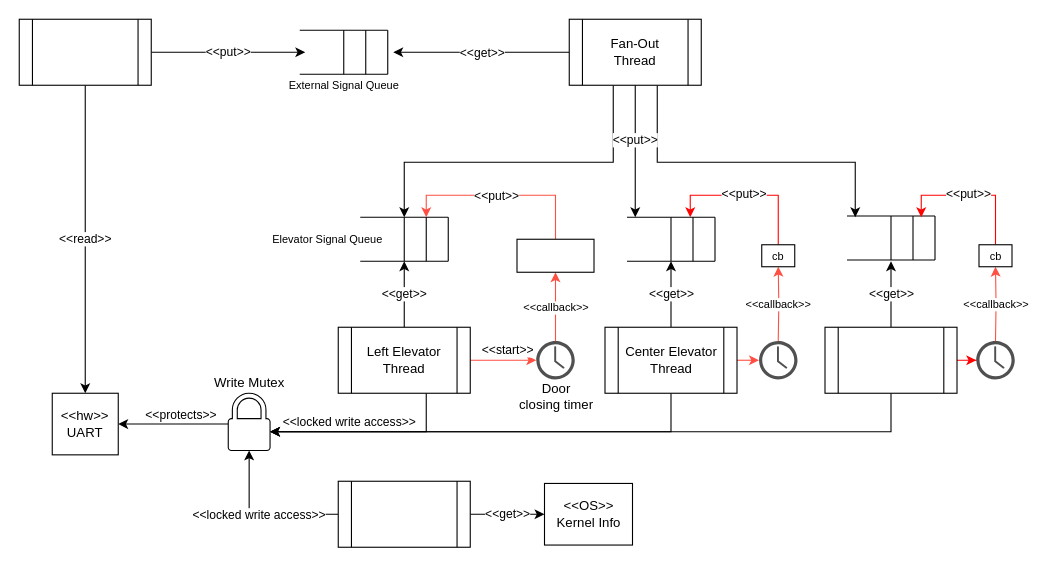
Image size: 1048x567. Some labels were removed from this diagram. Each missing label, with the centre of its shape:
<<function>> callback: point 555,255
Main Thread: point 403,513
Right Elevator Thread: point 890,359
Signal Handler Thread: point 84,51
